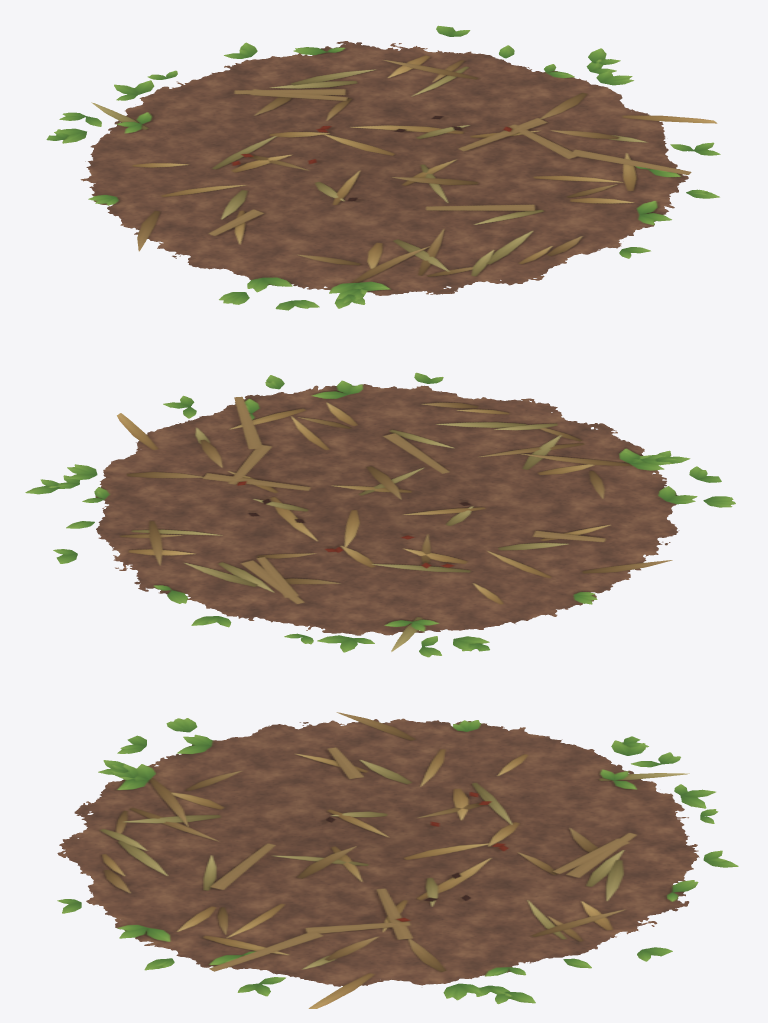
The model's file is piringan.glb.
3 renders of one model, top to bottom at view 1: azimuth 30°, elevation 25°; view 2: azimuth 150°, elevation 25°; view 3: azimuth 270°, elevation 25°, orthographic. The views are drawn at different scales.
Parts seen in each view (by area): view 1: piringan_mesh; view 2: piringan_mesh; view 3: piringan_mesh.
Boxes of the visible parts, x1,y1,x2,y2 form: piringan_mesh: [46, 25, 720, 310]; piringan_mesh: [25, 372, 735, 657]; piringan_mesh: [57, 712, 738, 1008].
Size of the model in its own units: 2.4 by 0.015 by 2.4.
1 material, 1 textured.
